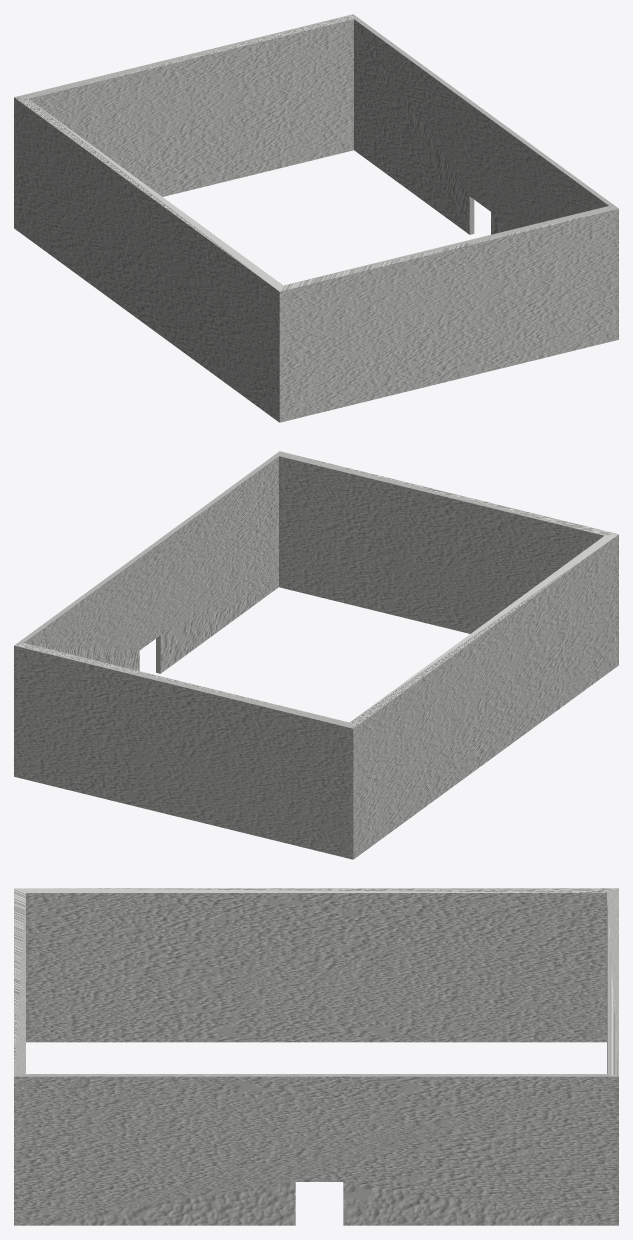
The model's file is kitchen-area.fbx.
The picture shows the model from 3 angles, top to bottom: view 1: azimuth 30°, elevation 25°; view 2: azimuth 150°, elevation 25°; view 3: azimuth 270°, elevation 25°; orthographic projection. The views are drawn at different scales.
Parts seen in each view (by area): view 1: Cube.001; view 2: Cube.001; view 3: Cube.001.
Boxes of the visible parts, x1,y1,x2,y2 form: Cube.001: [14, 14, 618, 422]; Cube.001: [14, 451, 618, 859]; Cube.001: [14, 888, 618, 1225].
Bounding box in the file's own units: 3725 × 1378 × 5050.
